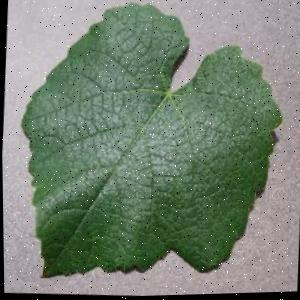Folha: (10, 0, 289, 293)
